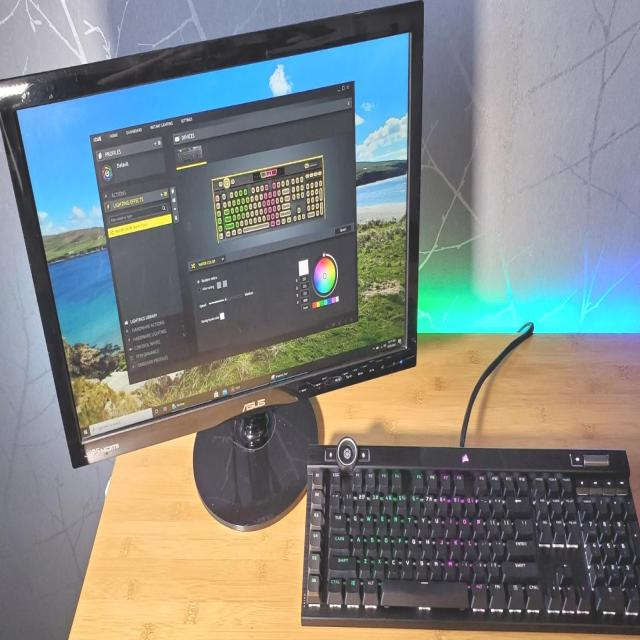keyboard: (300, 435, 640, 637)
